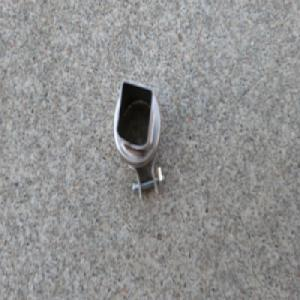MetalPart: (111, 75, 165, 207)
